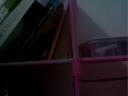window: (2, 2, 125, 94)
